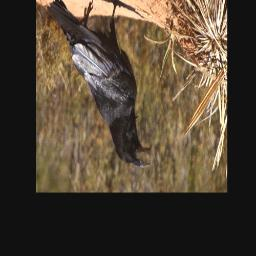Crow: (46, 0, 151, 167)
